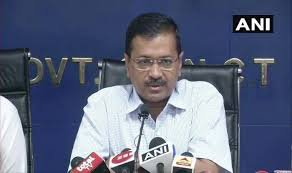noMask: (119, 13, 187, 106)
